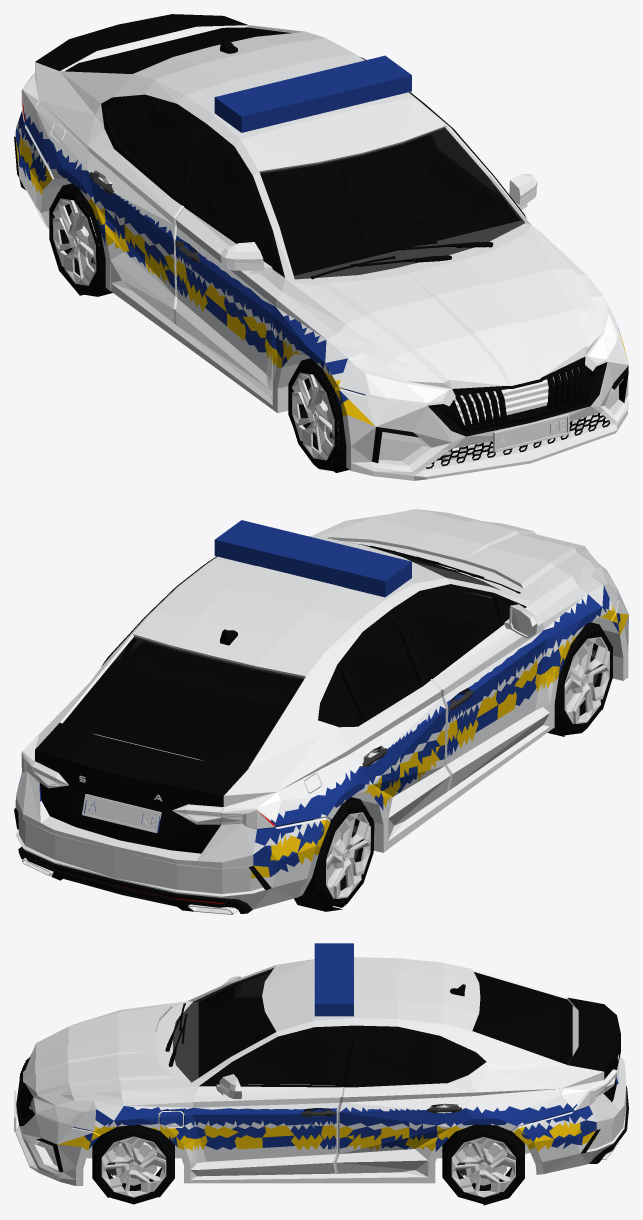
3 views of the same model, one above another, from view 1: azimuth 30°, elevation 25°; view 2: azimuth 150°, elevation 25°; view 3: azimuth 270°, elevation 25° (orthographic). The views are drawn at different scales.
Visible parts, largest first — view 1: body, glass, interior, wheel_RL, wheel_FL; view 2: body, glass, interior, wheel_FL, wheel_RL; view 3: body, glass, interior, wheel_RR, wheel_FR.
Part boxes in pixels (left/top/right/bottom): body: left=14, top=14, right=628, bottom=480; glass: left=65, top=27, right=524, bottom=279; interior: left=66, top=27, right=519, bottom=324; wheel_RL: left=49, top=192, right=112, bottom=296; wheel_FL: left=288, top=366, right=338, bottom=470; body: left=14, top=509, right=628, bottom=914; glass: left=63, top=543, right=500, bottom=768; interior: left=63, top=590, right=498, bottom=791; wheel_FL: left=561, top=630, right=612, bottom=735; wheel_RL: left=323, top=806, right=374, bottom=907; body: left=14, top=943, right=628, bottom=1205; glass: left=173, top=968, right=572, bottom=1084; interior: left=199, top=971, right=572, bottom=1173; wheel_RR: left=442, top=1132, right=520, bottom=1204; wheel_FR: left=96, top=1132, right=170, bottom=1204.
Bounding box in the file's own units: 2.02 × 1.55 × 4.69.
